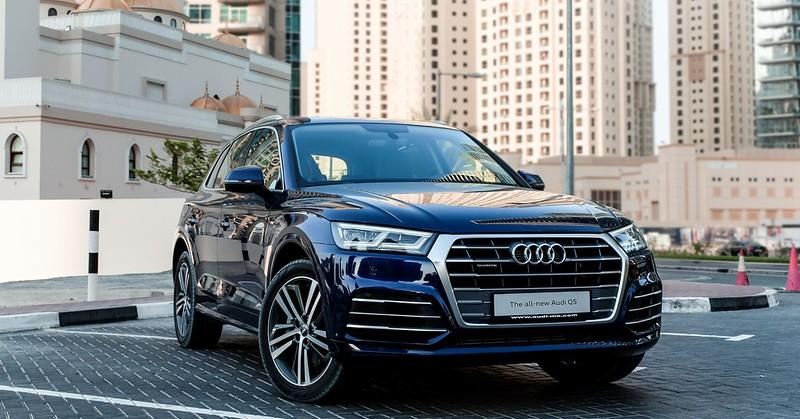windshield: (280, 118, 537, 194)
